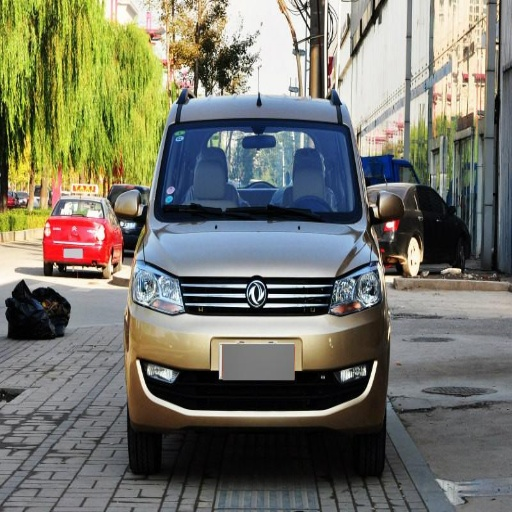front_bumper: (130, 278, 389, 426)
front_right_light: (132, 260, 186, 314)
hood: (145, 220, 372, 279)
